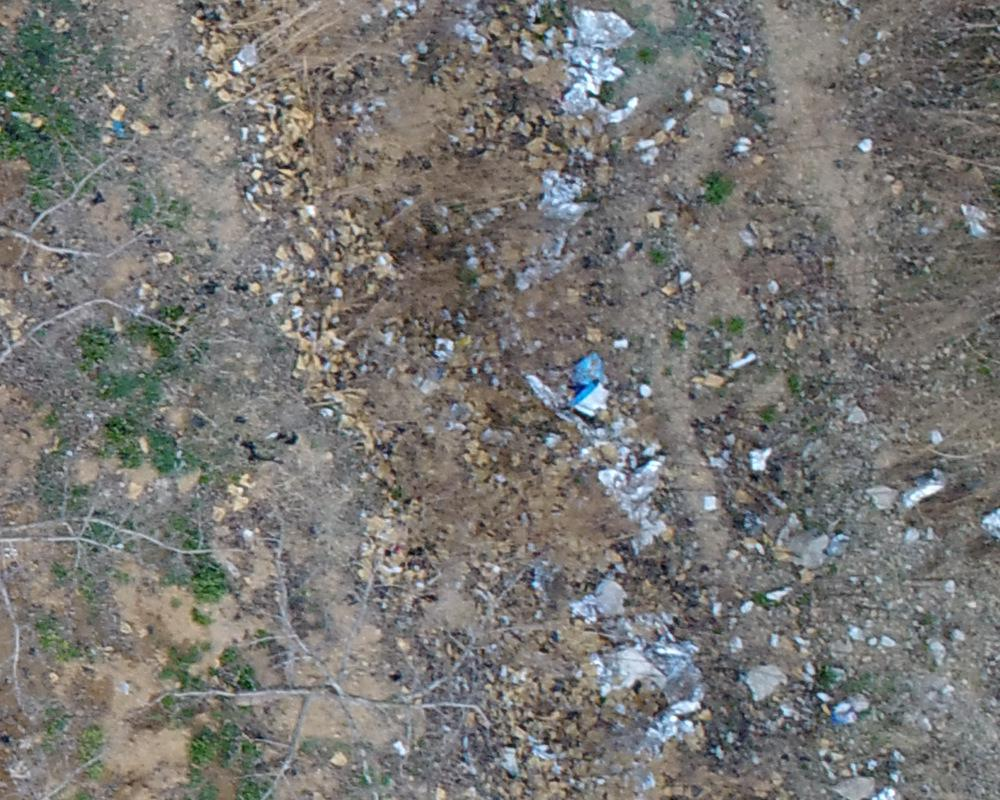apple: (10, 288, 235, 707), (182, 531, 535, 790)
